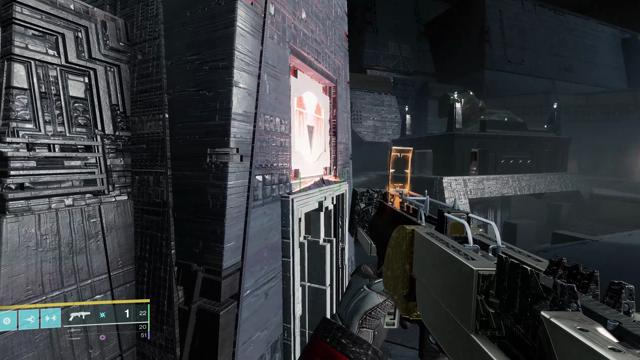give: (294, 91, 326, 162)
